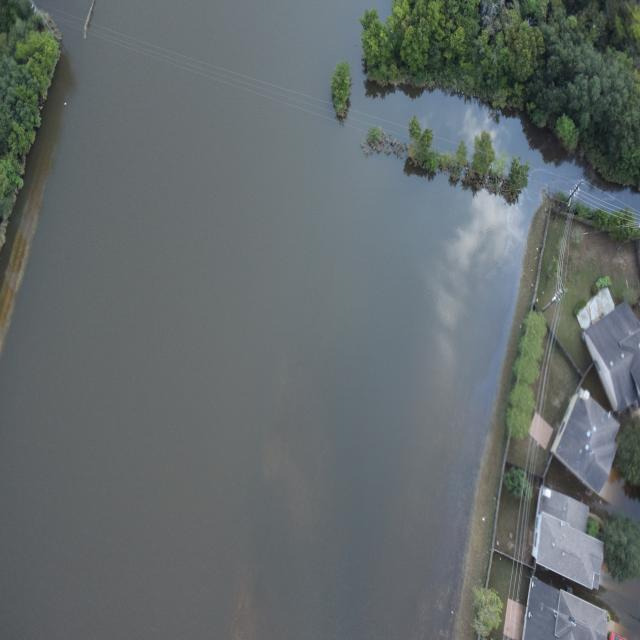fire: (0, 0, 640, 639), (0, 0, 583, 639), (599, 567, 640, 640), (601, 469, 640, 521)
